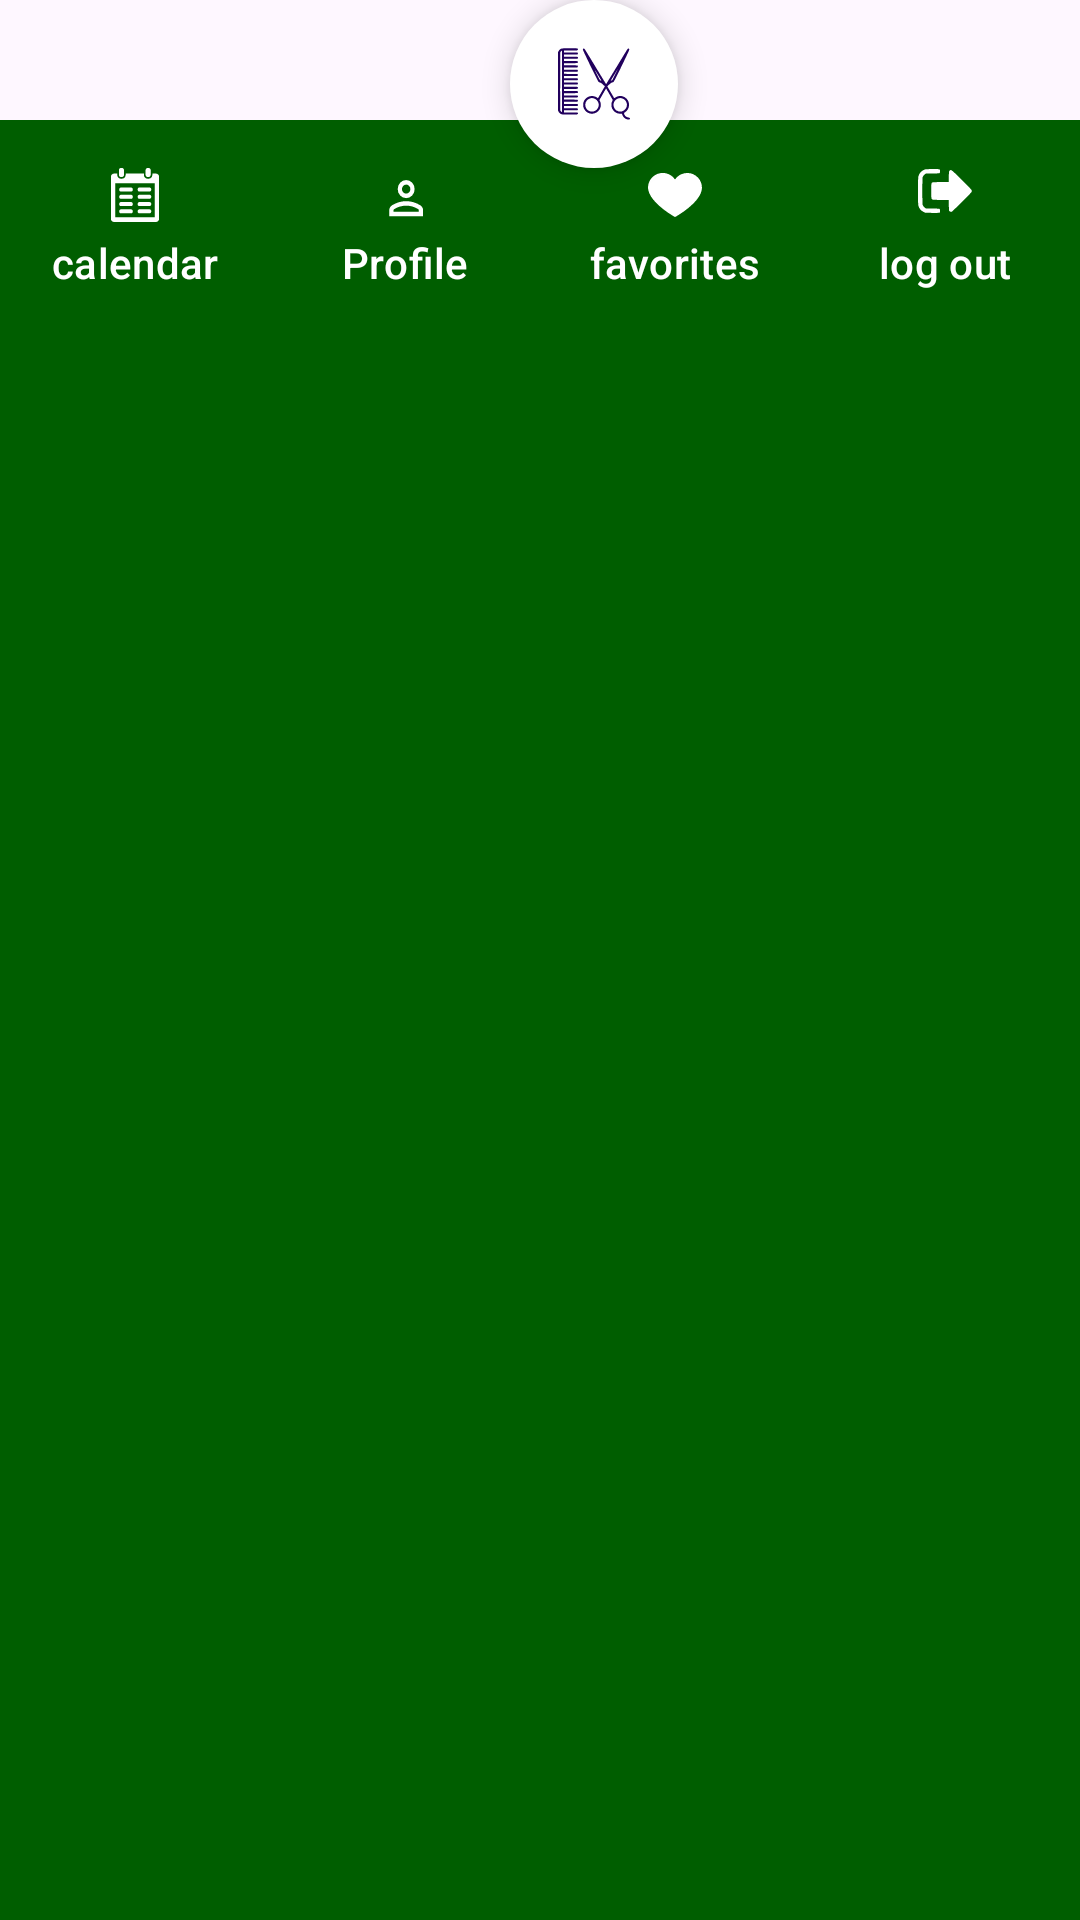

Where to tap for icons on this 1080x1920 app screen, as point (x, y):
click here to find barbers: point (594, 84)
